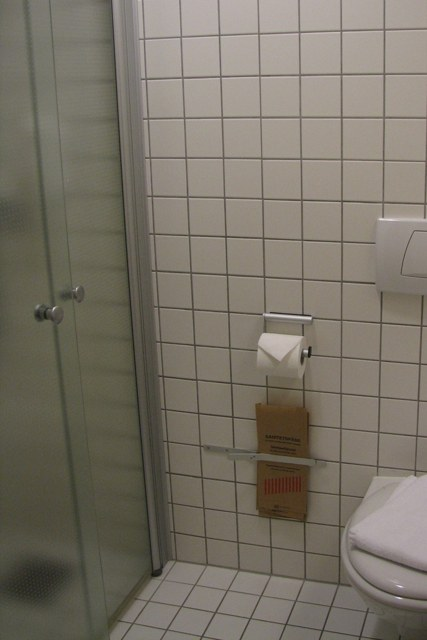toilet_paper: (257, 333, 306, 379)
